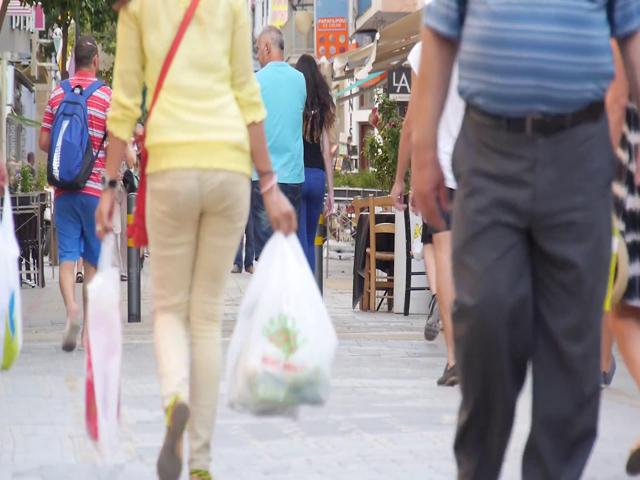shoe: (157, 401, 189, 479), (63, 305, 78, 351), (437, 362, 458, 386)
